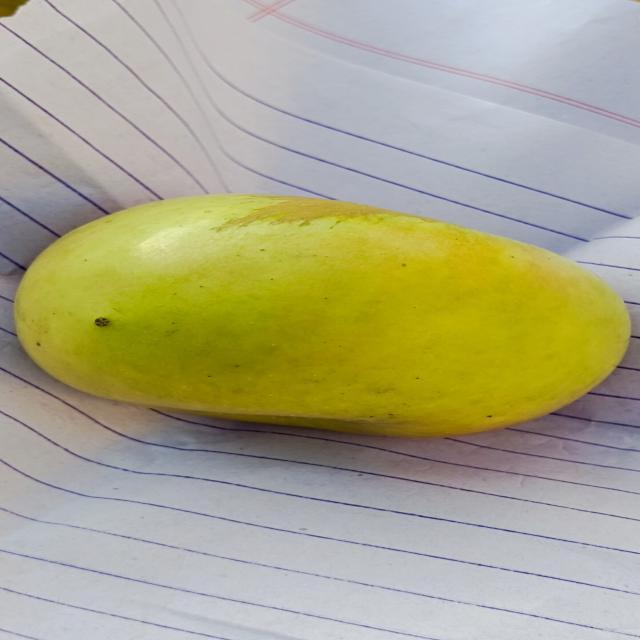Fresh Apple: (5, 183, 639, 451)
